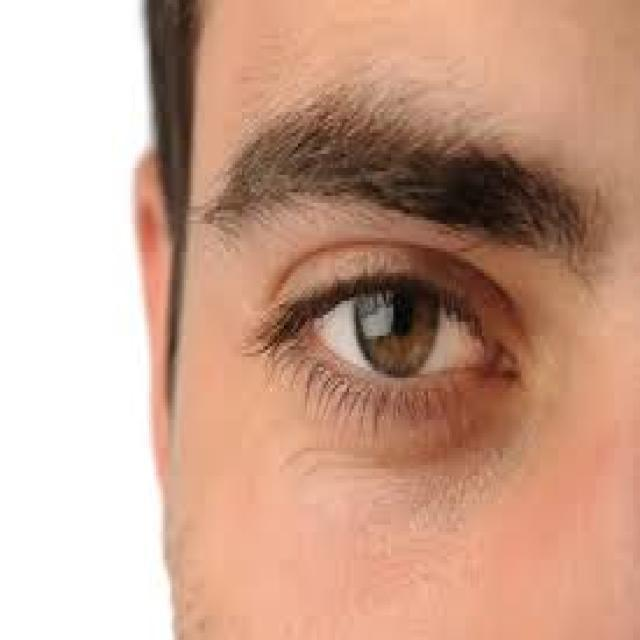Normal: (230, 217, 566, 503)
